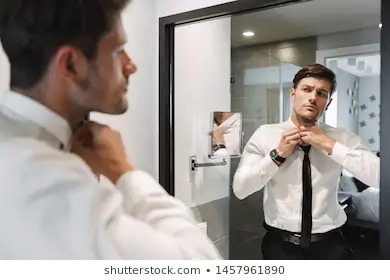F_shirt: (235, 116, 385, 230)
F_tie: (297, 132, 313, 243)
